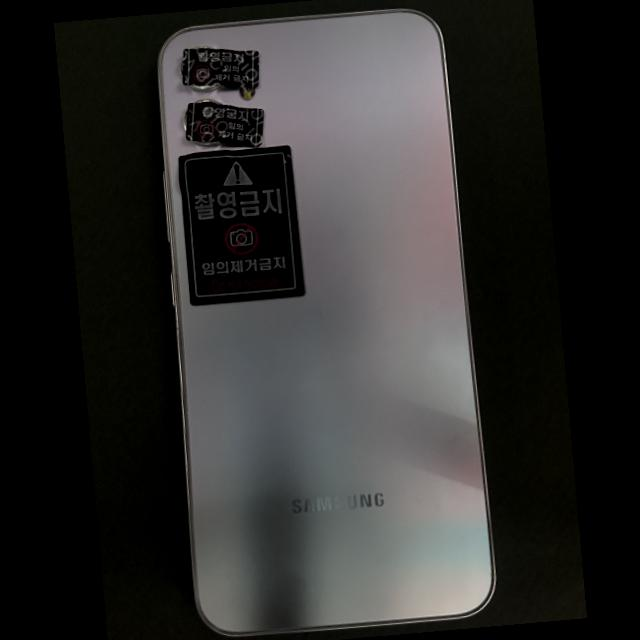phone: (158, 9, 495, 636)
sticker: (179, 145, 304, 304), (184, 102, 264, 147), (181, 49, 260, 87)
